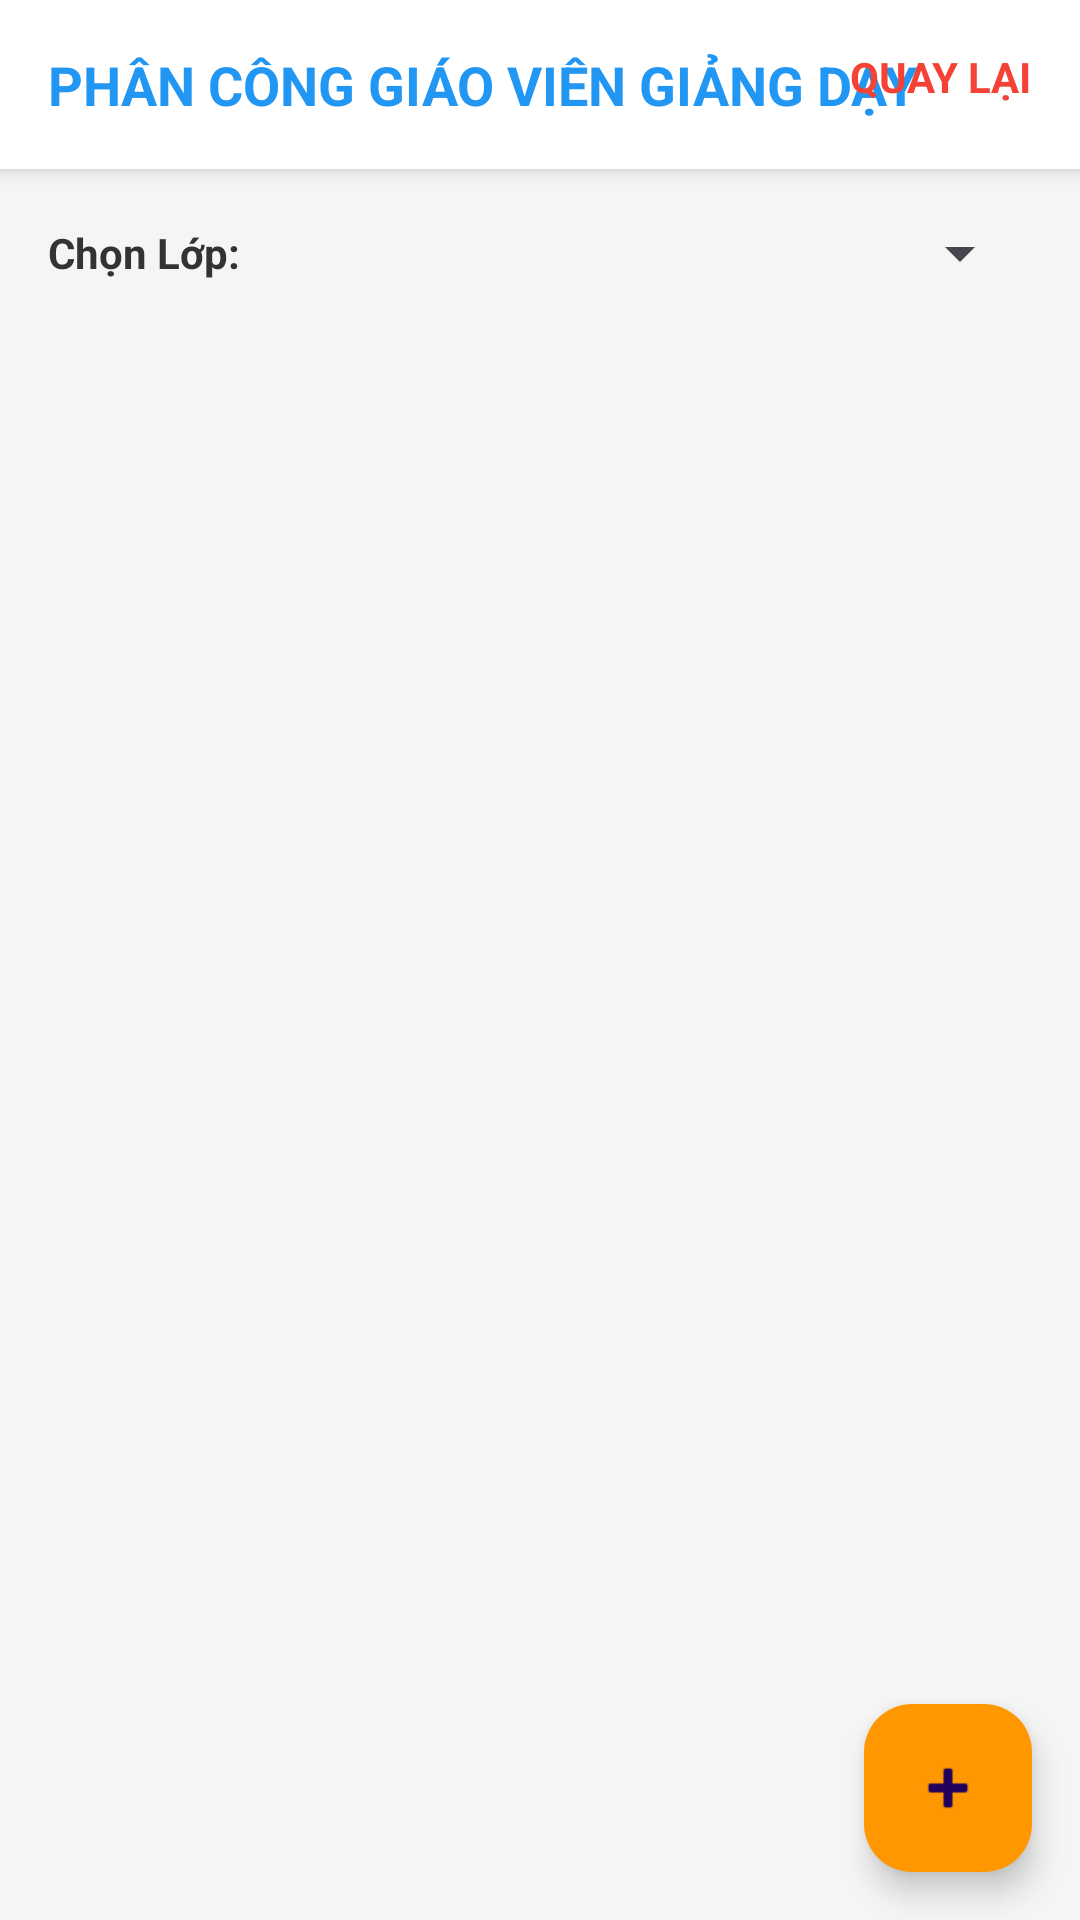

Screen size 1080×1920. Icon name, then its center in pixels as (x,y):
Thêm phân công: (948,1788)
